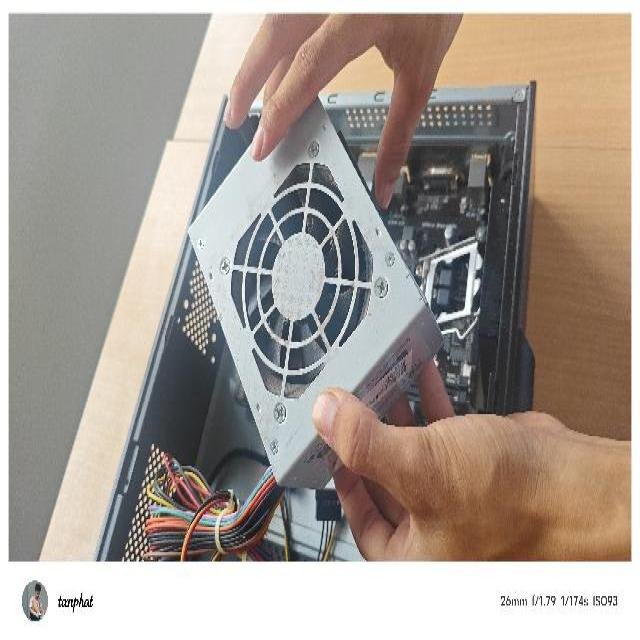PSU: (186, 86, 446, 493)
